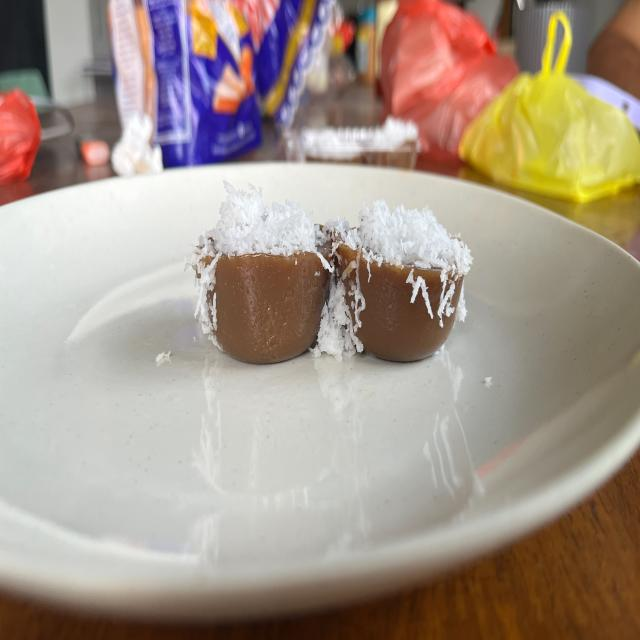Kuih lompang: (190, 182, 331, 364), (318, 200, 472, 362)
